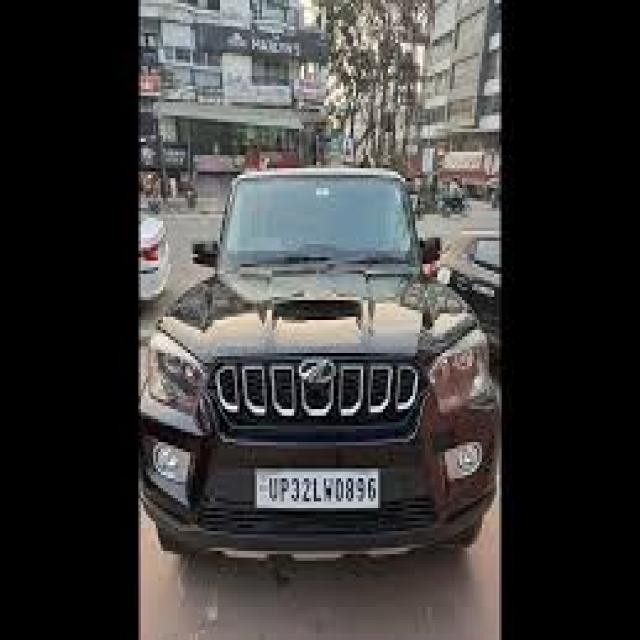Car: (143, 174, 499, 555)
